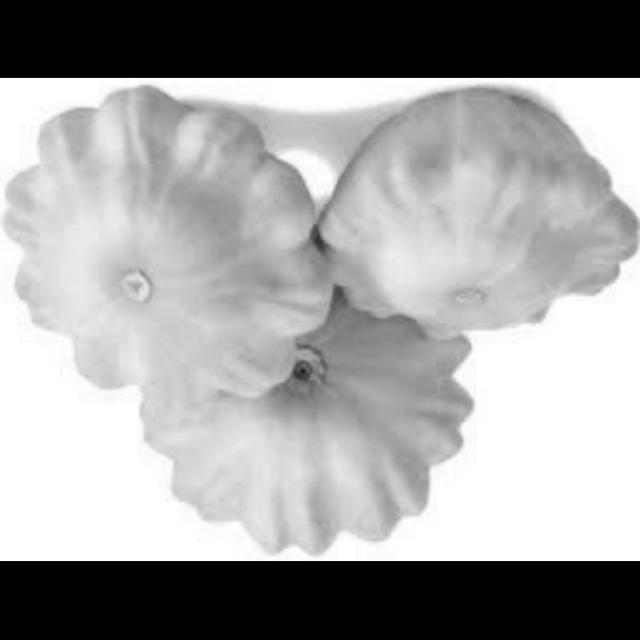bi dao: (0, 79, 335, 405), (125, 313, 481, 559), (321, 87, 639, 357)
